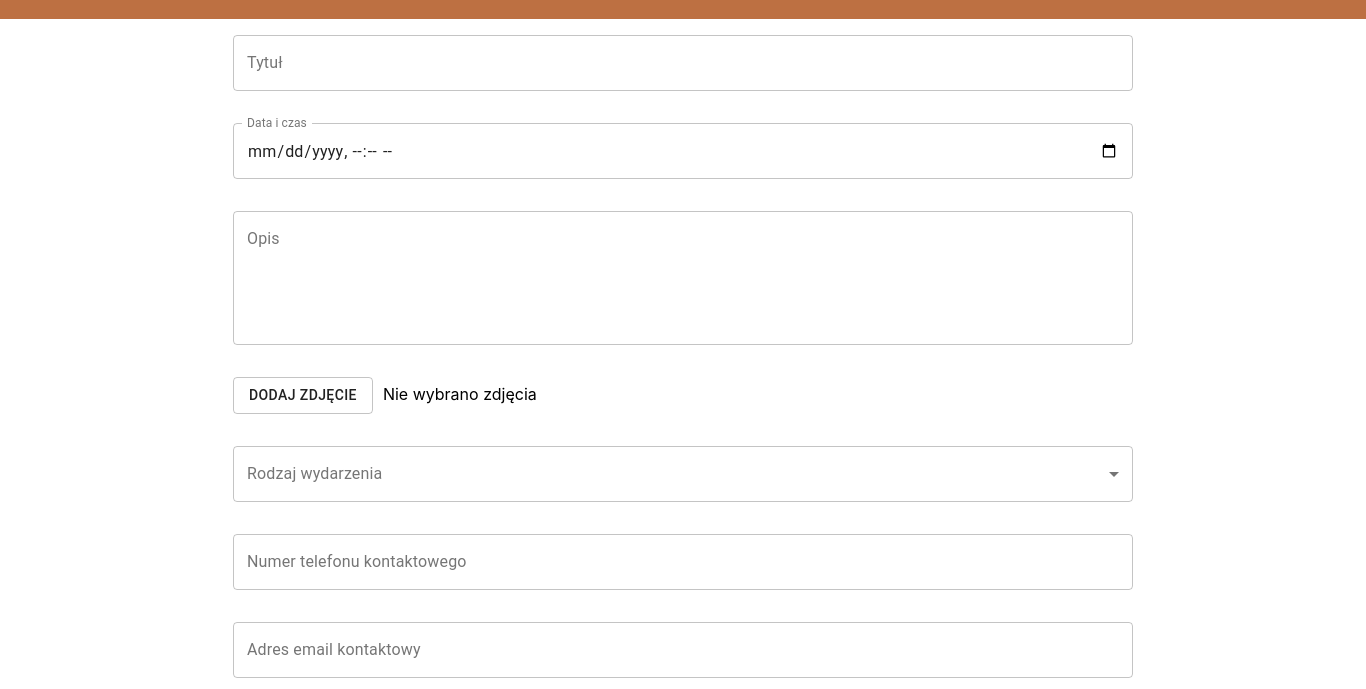
Test: CRA › rejects email without at
This screenshot has width=1366, height=689.
Type "invalid" into the field with id "email" at (683, 650), box [233, 622, 1133, 678]
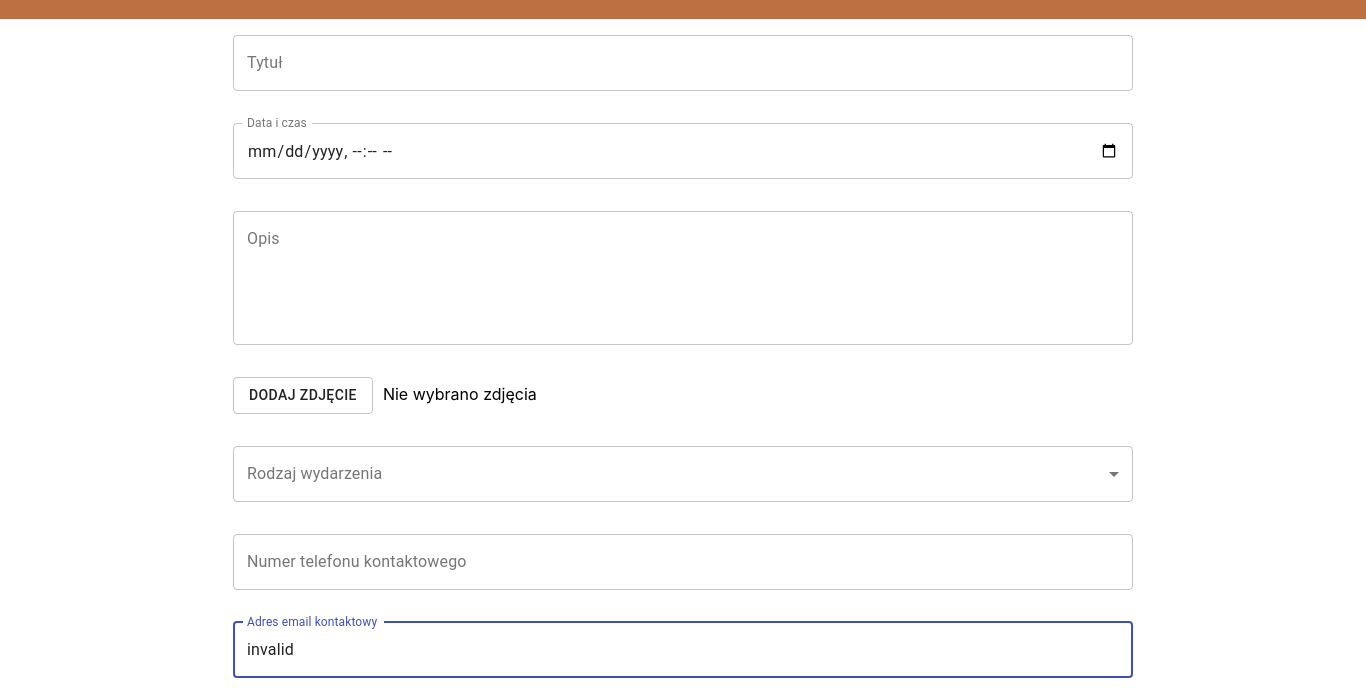
Scroll
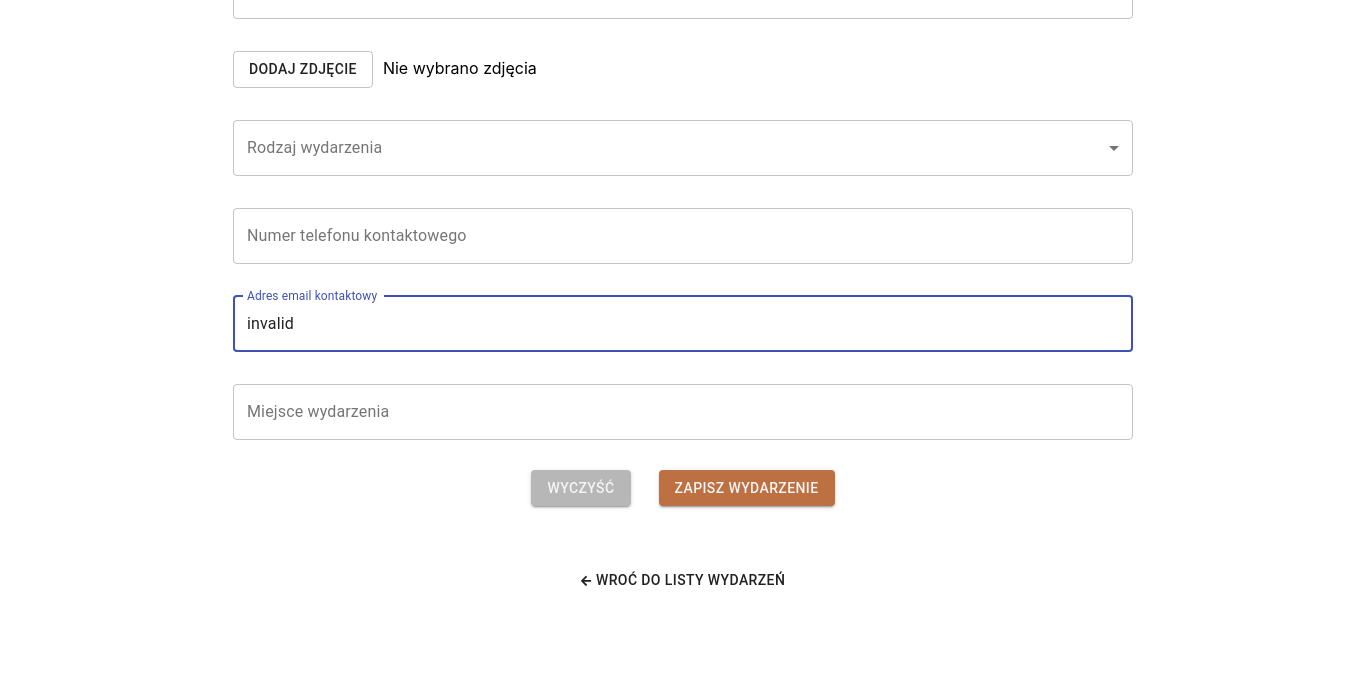
Click the field labelled "Miejsce wydarzenia" at (683, 412), box [233, 384, 1133, 440]
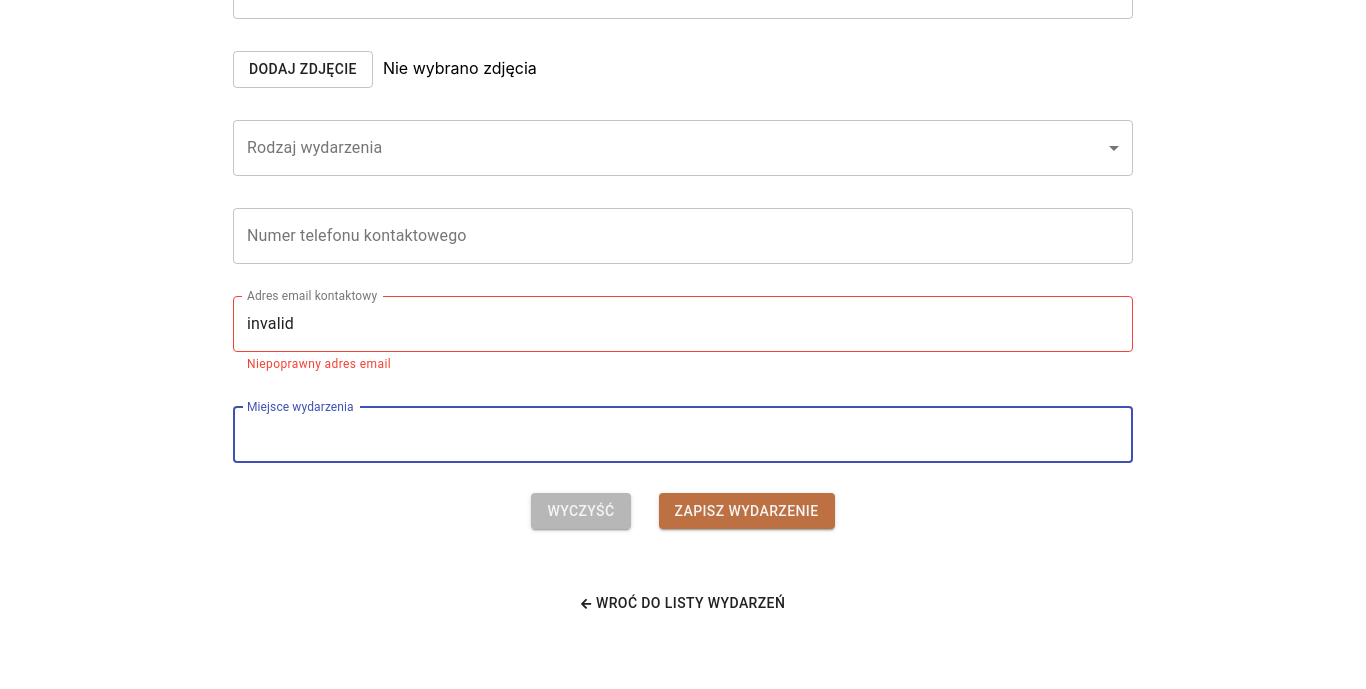
Result: the text with id "email-helper-text" reads "Niepoprawny adres email" at [247, 357, 391, 371]
